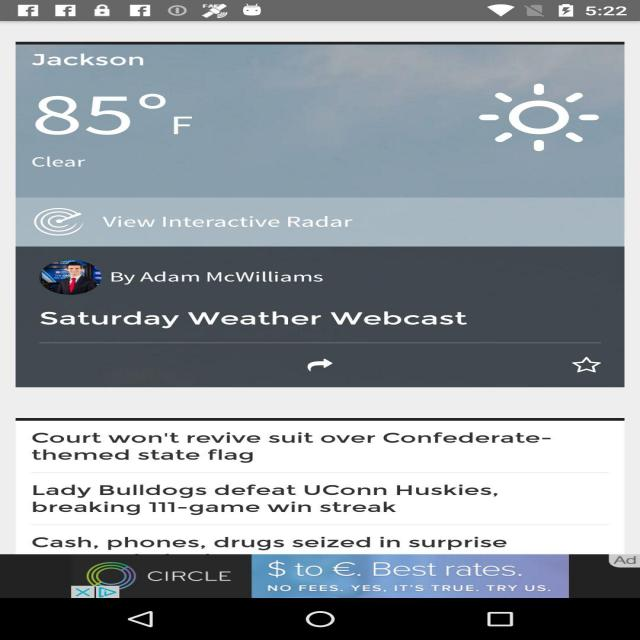icon: (426, 75, 640, 158), (23, 84, 218, 144), (538, 348, 640, 389), (19, 200, 97, 246), (26, 253, 106, 295), (278, 350, 368, 378)
text: (25, 423, 592, 469), (21, 479, 524, 517), (34, 301, 495, 338), (38, 526, 540, 556), (99, 206, 376, 246), (106, 260, 346, 288), (15, 48, 218, 74), (1, 146, 110, 185)
